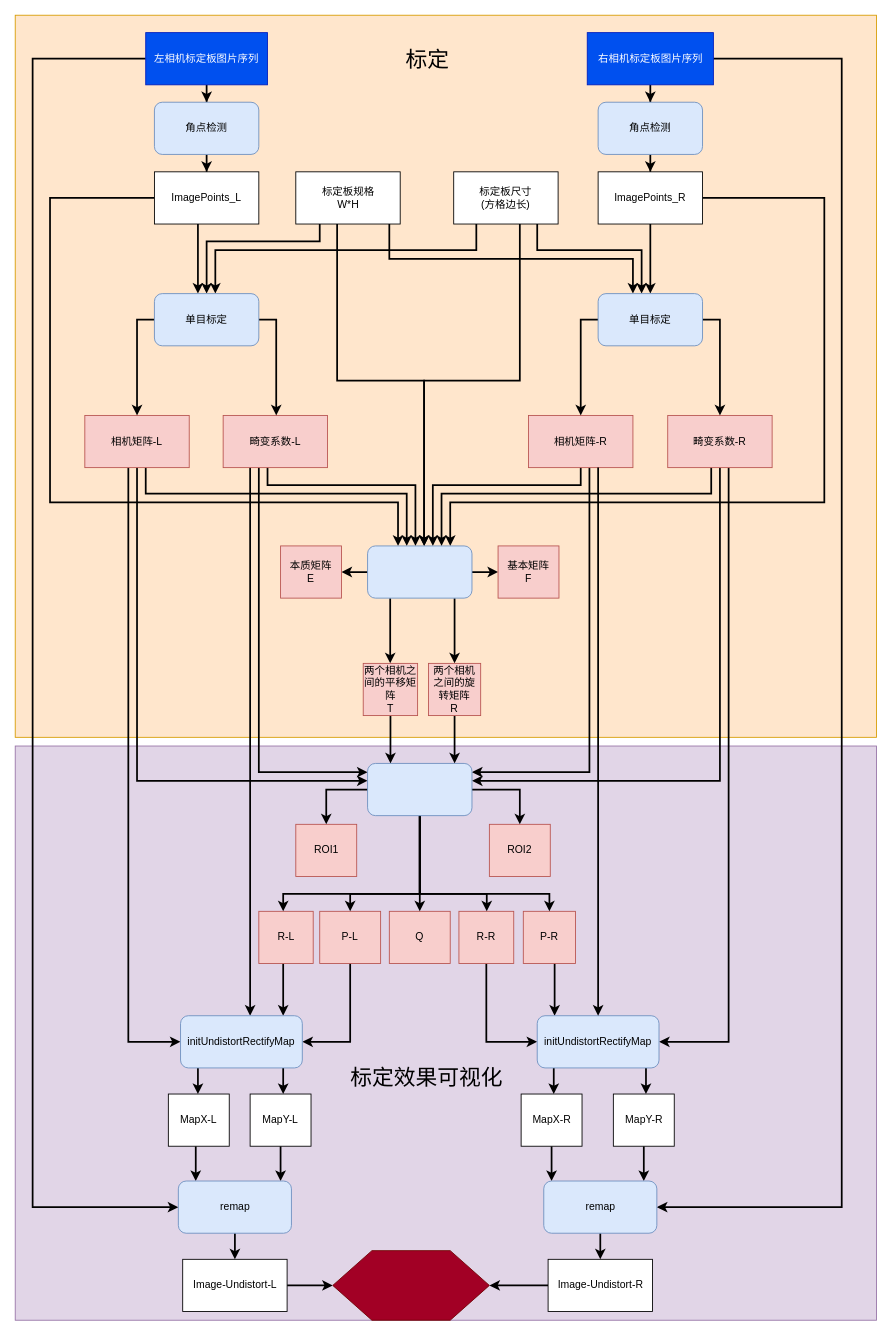
This 892x1335 diagram has some shape labels left out. Each missing label, with the centre of its shape:
stereoRectify: the point at 419,789
双目标定 StereoCalibrate: the point at 419,571
标定时显示校正和对正效果: the point at 410,1285
